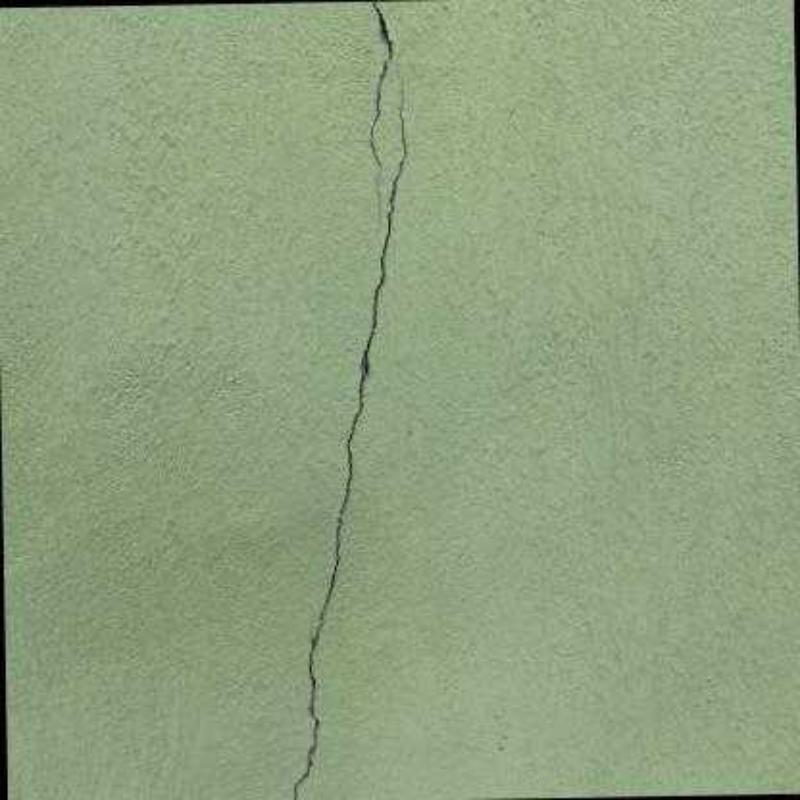pothole: (293, 54, 407, 800), (370, 2, 392, 240)
